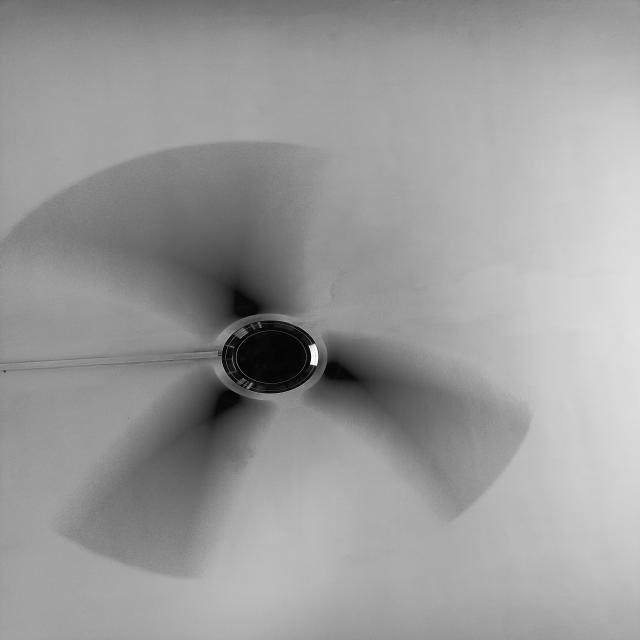fan: (0, 138, 535, 579)
